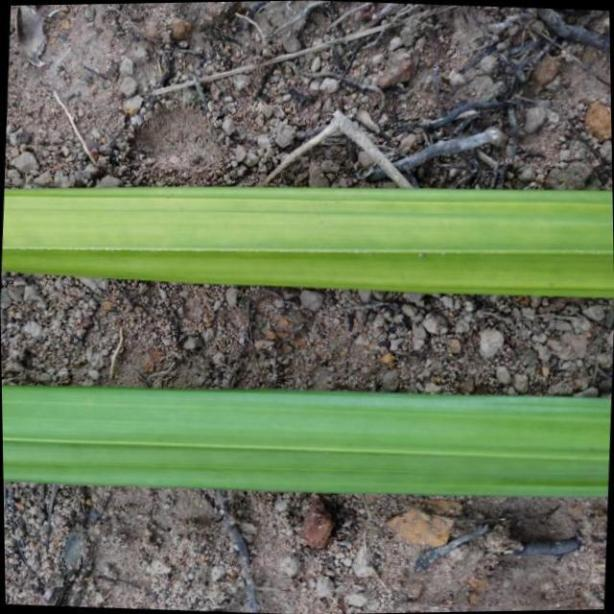nitrogen: (3, 382, 614, 499), (0, 187, 614, 302)
